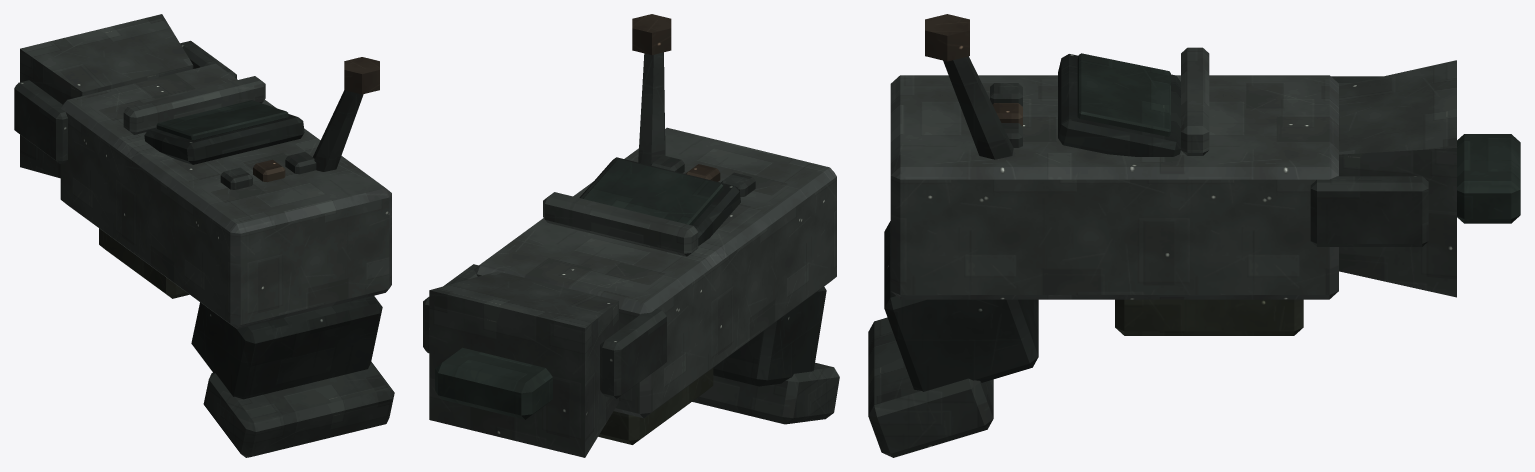
The model's file is scanner.glb.
The picture shows the model from 3 angles, left to right: view 1: azimuth 30°, elevation 25°; view 2: azimuth 150°, elevation 25°; view 3: azimuth 270°, elevation 25°; orthographic projection. The views are drawn at different scales.
Visible parts, largest first — view 1: scanner; view 2: scanner; view 3: scanner.
Part boxes in pixels (x1,y1,x2,y2): scanner: [14, 14, 394, 457]; scanner: [423, 14, 839, 457]; scanner: [868, 14, 1520, 457].
Bounding box in the file's own units: 0.1417 × 0.2568 × 0.35.
1 material, 1 textured.
